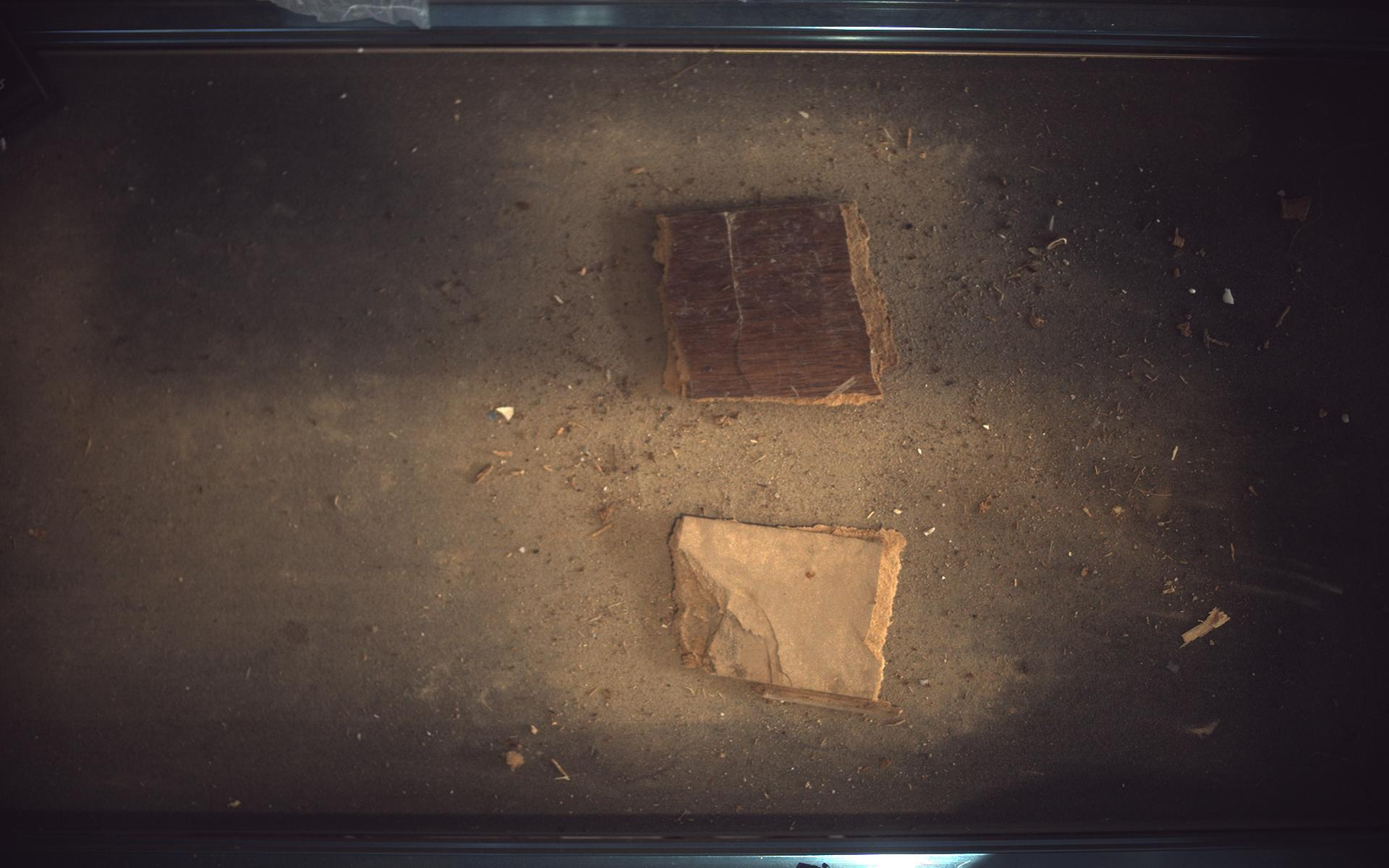wood: (655, 201, 900, 406), (671, 516, 907, 722)
